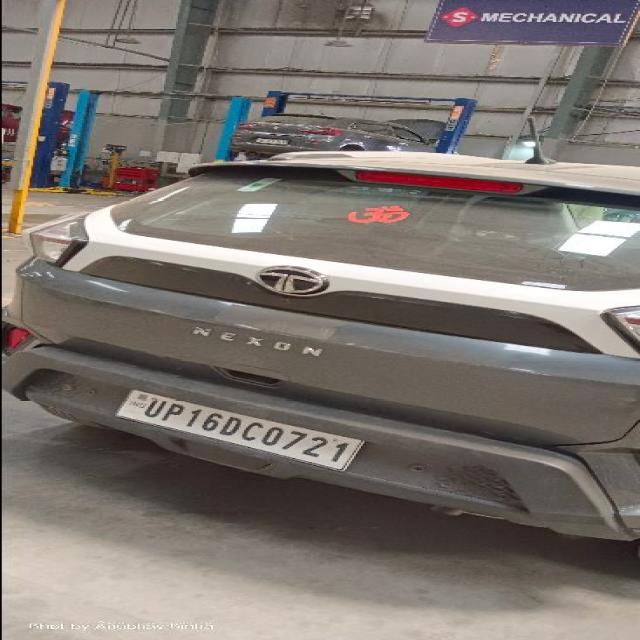license_plate: (113, 388, 364, 472)
